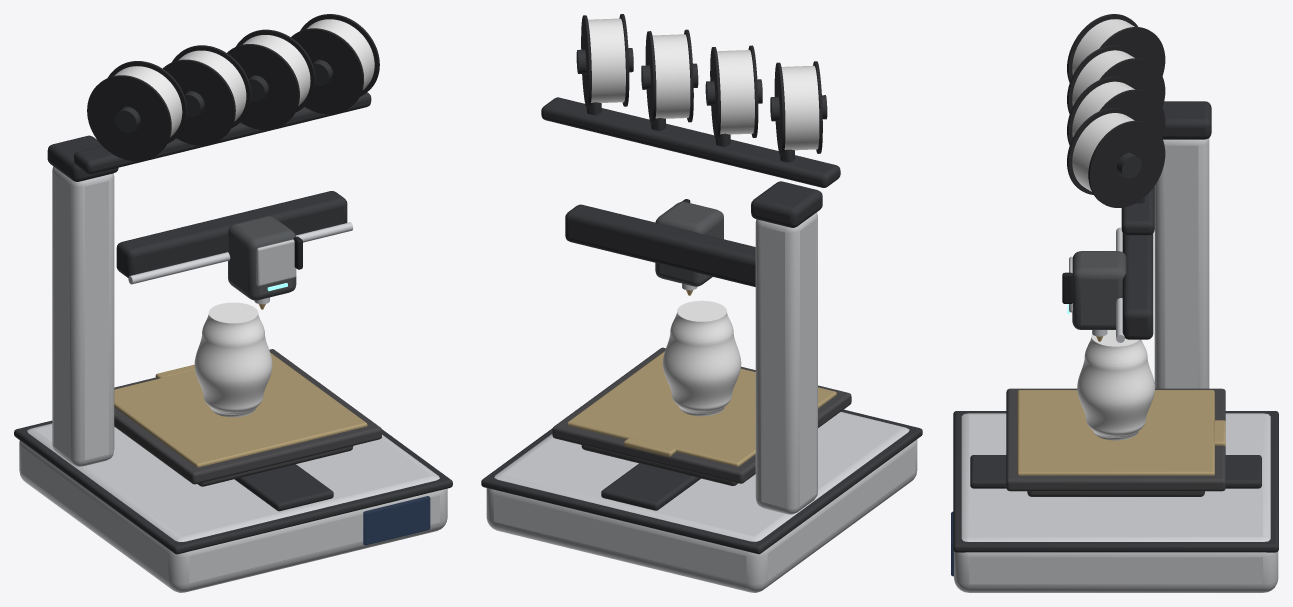
Rendered from mini.glb.
The picture shows the model from 3 angles, left to right: view 1: azimuth 30°, elevation 25°; view 2: azimuth 150°, elevation 25°; view 3: azimuth 270°, elevation 25°; orthographic projection.
Visible parts, largest first — view 1: Base, Column, Plate, XBeam, BaseTrim, BedFrame, Flange_0_F, Flange_1_F, Flange_3_F, Flange_2_F, ToolBody, YRailCover (+15 smaller); view 2: Base, Column, Plate, XBeam, LiteRail, BaseTrim, BedFrame, Filament_2, Filament_0, Filament_3, Filament_1, YRailCover (+8 smaller); view 3: Base, Plate, Column, BaseTrim, BedFrame, Flange_3_B, ToolBody, XBeam, YRailCover, ColumnCap, Filament_3, Flange_1_B (+14 smaller).
Part boxes in pixels (x1=…): Base: x1=19, y1=423, x2=447, y2=592; Column: x1=52, y1=166, x2=114, y2=466; Plate: x1=114, y1=352, x2=367, y2=467; XBeam: x1=116, y1=191, x2=347, y2=277; BaseTrim: x1=14, y1=420, x2=452, y2=554; BedFrame: x1=114, y1=349, x2=381, y2=484; Flange_0_F: x1=87, y1=75, x2=171, y2=161; Flange_1_F: x1=163, y1=59, x2=235, y2=145; Flange_3_F: x1=291, y1=28, x2=363, y2=114; Flange_2_F: x1=227, y1=44, x2=299, y2=129; ToolBody: x1=228, y1=216, x2=296, y2=300; YRailCover: x1=234, y1=464, x2=333, y2=511; Base: x1=486, y1=412, x2=917, y2=592; Column: x1=755, y1=212, x2=817, y2=514; Plate: x1=567, y1=351, x2=836, y2=466; XBeam: x1=565, y1=204, x2=755, y2=286; LiteRail: x1=541, y1=97, x2=840, y2=187; BaseTrim: x1=481, y1=409, x2=922, y2=554; BedFrame: x1=552, y1=347, x2=851, y2=483; Filament_2: x1=652, y1=34, x2=690, y2=118; Filament_0: x1=781, y1=65, x2=819, y2=150; Filament_3: x1=588, y1=18, x2=625, y2=102; Filament_1: x1=717, y1=50, x2=754, y2=134; YRailCover: x1=601, y1=463, x2=700, y2=510; Base: x1=954, y1=413, x2=1278, y2=592; Plate: x1=1017, y1=390, x2=1214, y2=475; Column: x1=1154, y1=138, x2=1209, y2=388; BaseTrim: x1=953, y1=411, x2=1278, y2=552; BedFrame: x1=1006, y1=388, x2=1225, y2=491; Flange_3_B: x1=1088, y1=120, x2=1165, y2=207; ToolBody: x1=1072, y1=251, x2=1126, y2=329; XBeam: x1=1122, y1=233, x2=1153, y2=339; YRailCover: x1=970, y1=455, x2=1261, y2=488; ColumnCap: x1=1162, y1=101, x2=1211, y2=139; Filament_3: x1=1072, y1=113, x2=1134, y2=191; Flange_1_B: x1=1099, y1=58, x2=1165, y2=106.
Size of the model in its own units: 0.3 by 0.471 by 0.2991.
